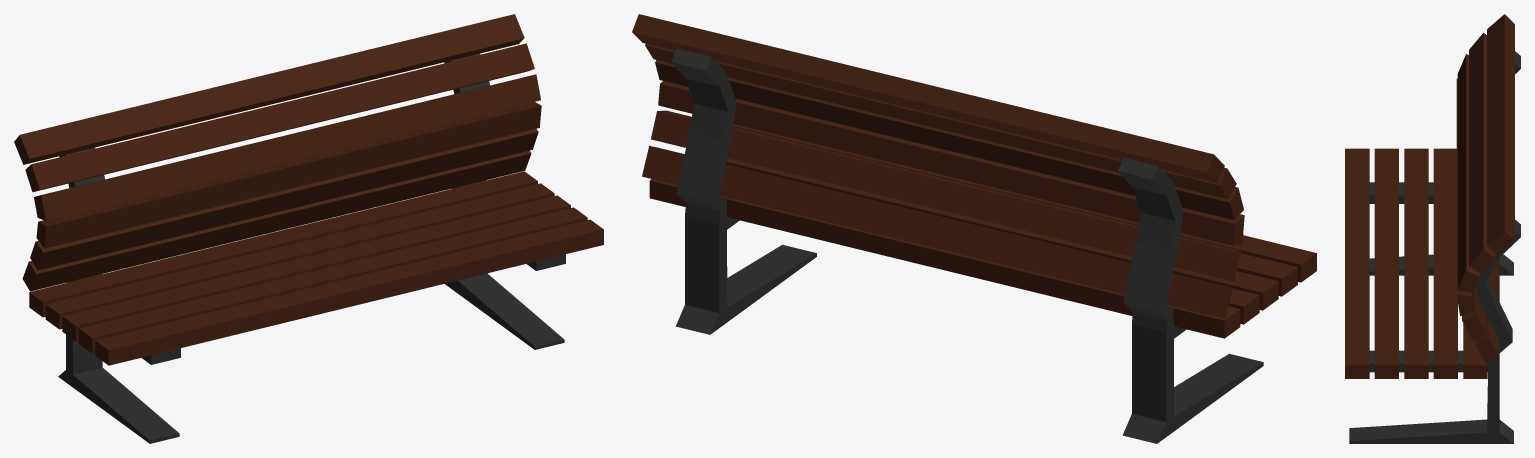
File: bench valo.fbx
3 renders of one model, left to right at view 1: azimuth 30°, elevation 25°; view 2: azimuth 150°, elevation 25°; view 3: azimuth 270°, elevation 25°, orthographic. The views are drawn at different scales.
Parts seen in each view (by area): view 1: Cube.001; view 2: Cube.001; view 3: Cube.001.
Part boxes in pixels (x1,y1,x2,y2): Cube.001: (14, 14, 603, 443); Cube.001: (632, 14, 1316, 443); Cube.001: (1345, 14, 1520, 443).
Size of the model in its own units: 149 by 51.03 by 73.6.
